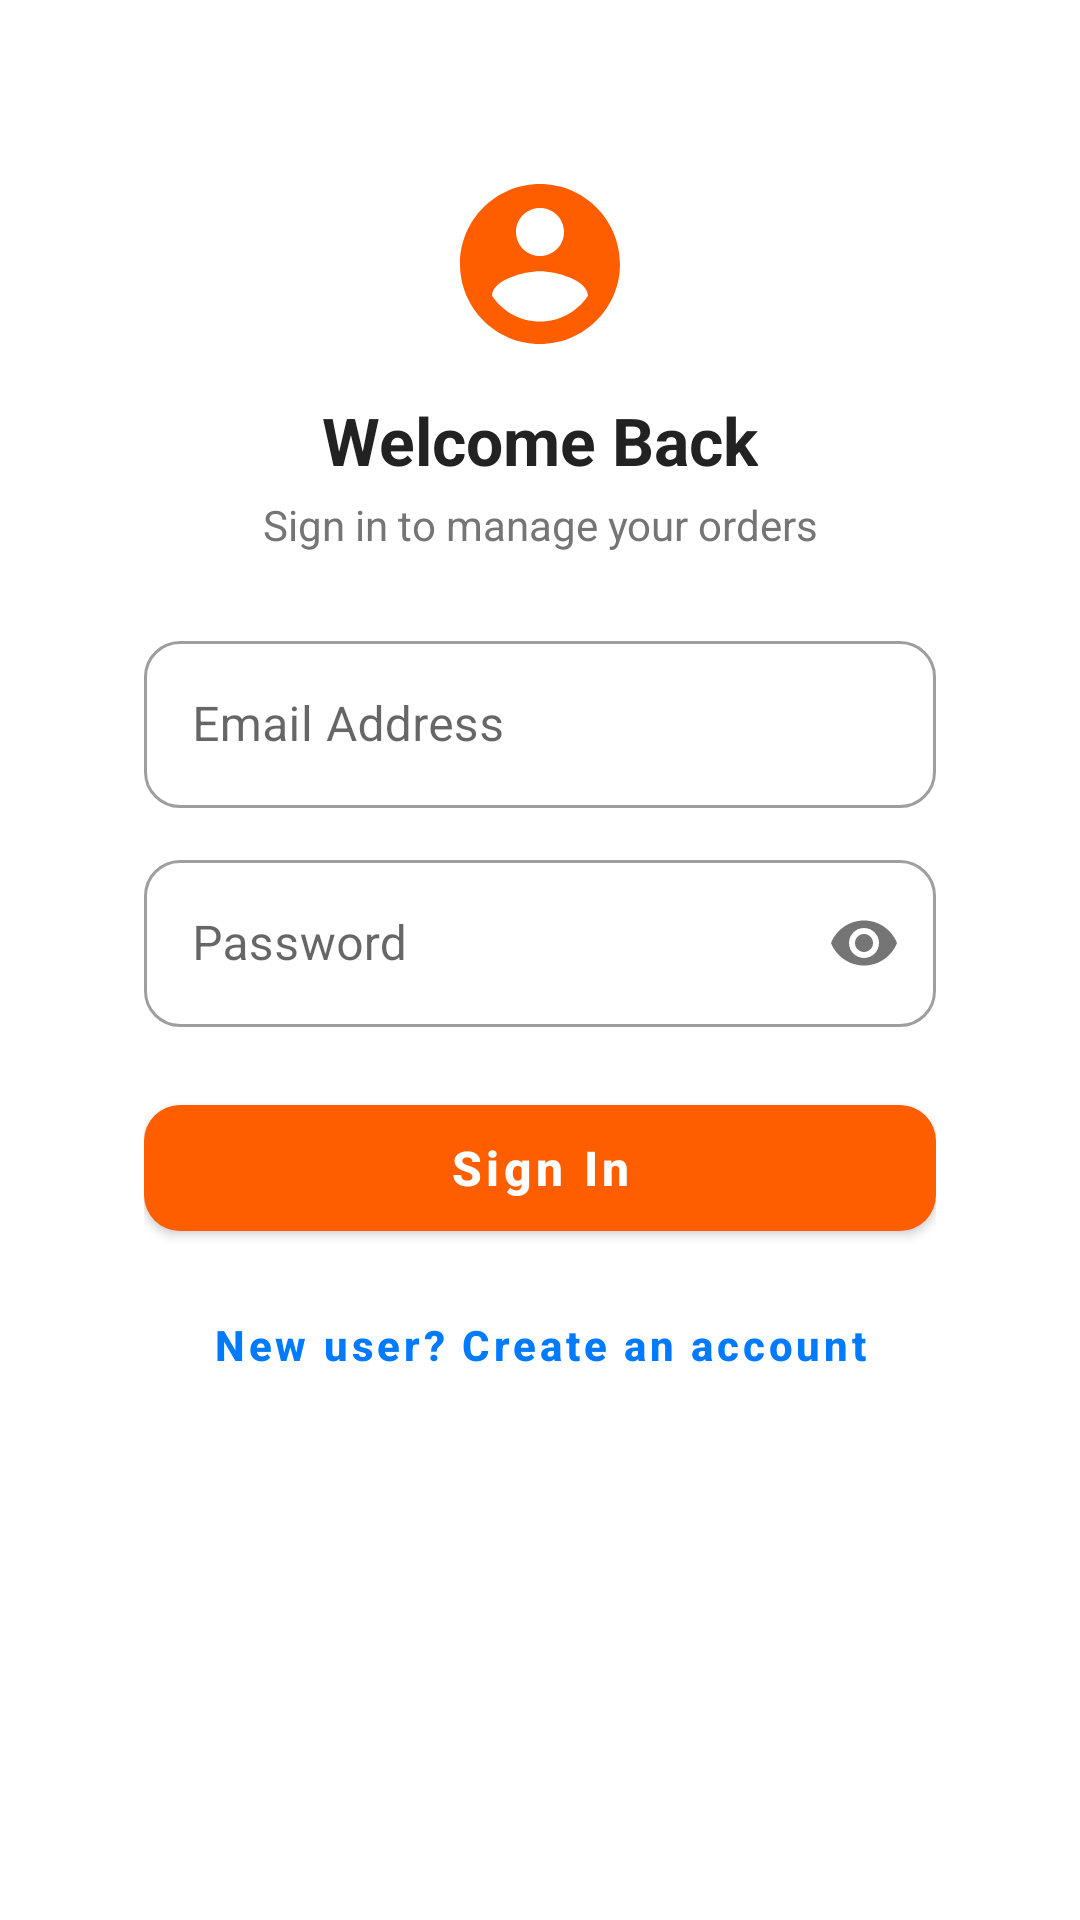

Screen size 1080 x 1920. Icon name, then its box in pixels as {"x1": x1, "y1": y1, "x2": x2, "y2": y2}:
account circle: {"x1": 459, "y1": 184, "x2": 620, "y2": 344}
